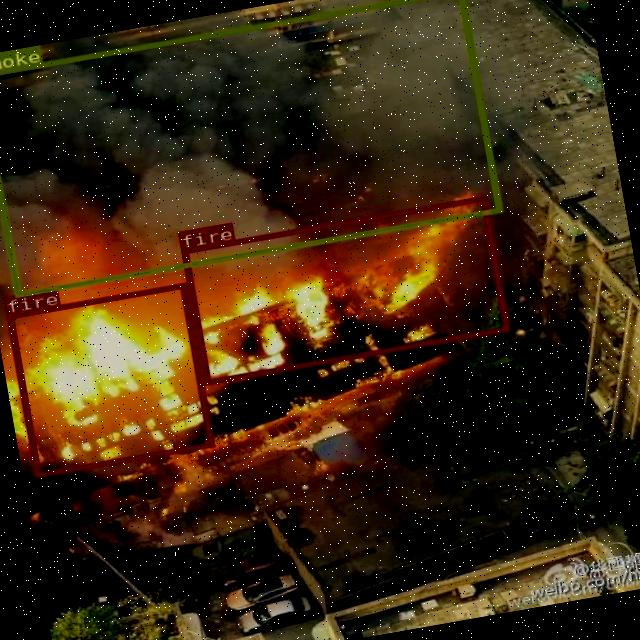fire: (180, 195, 508, 384), (5, 282, 214, 477)
smoke: (0, 0, 501, 297)
